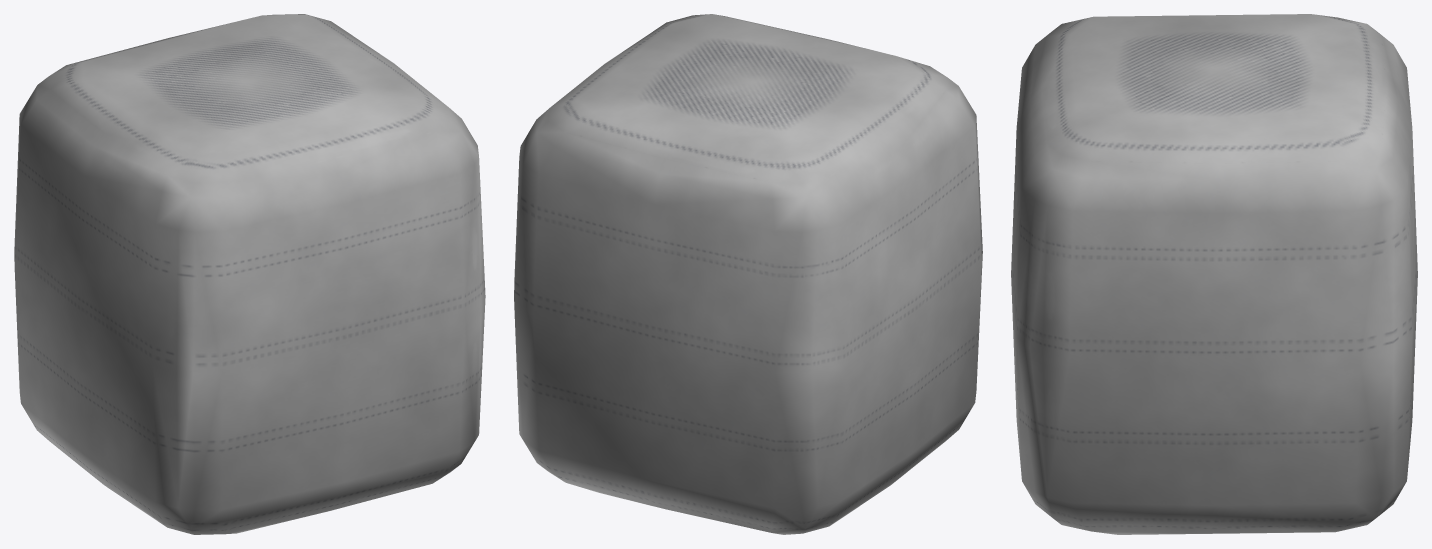
The model's file is LeftUpperLeg_C1.fbx.
The picture shows the model from 3 angles, left to right: view 1: azimuth 30°, elevation 25°; view 2: azimuth 150°, elevation 25°; view 3: azimuth 270°, elevation 25°; orthographic projection. The views are drawn at different scales.
Visible parts, largest first — view 1: Civ_Bermuda_LeftUpperLeg_C1; view 2: Civ_Bermuda_LeftUpperLeg_C1; view 3: Civ_Bermuda_LeftUpperLeg_C1.
Boxes of the visible parts, bbox=[...] form: Civ_Bermuda_LeftUpperLeg_C1: bbox=[14, 14, 485, 534]; Civ_Bermuda_LeftUpperLeg_C1: bbox=[514, 14, 982, 534]; Civ_Bermuda_LeftUpperLeg_C1: bbox=[1011, 14, 1417, 534].
Bounding box in the file's own units: 1.31 × 1.43 × 1.29.
